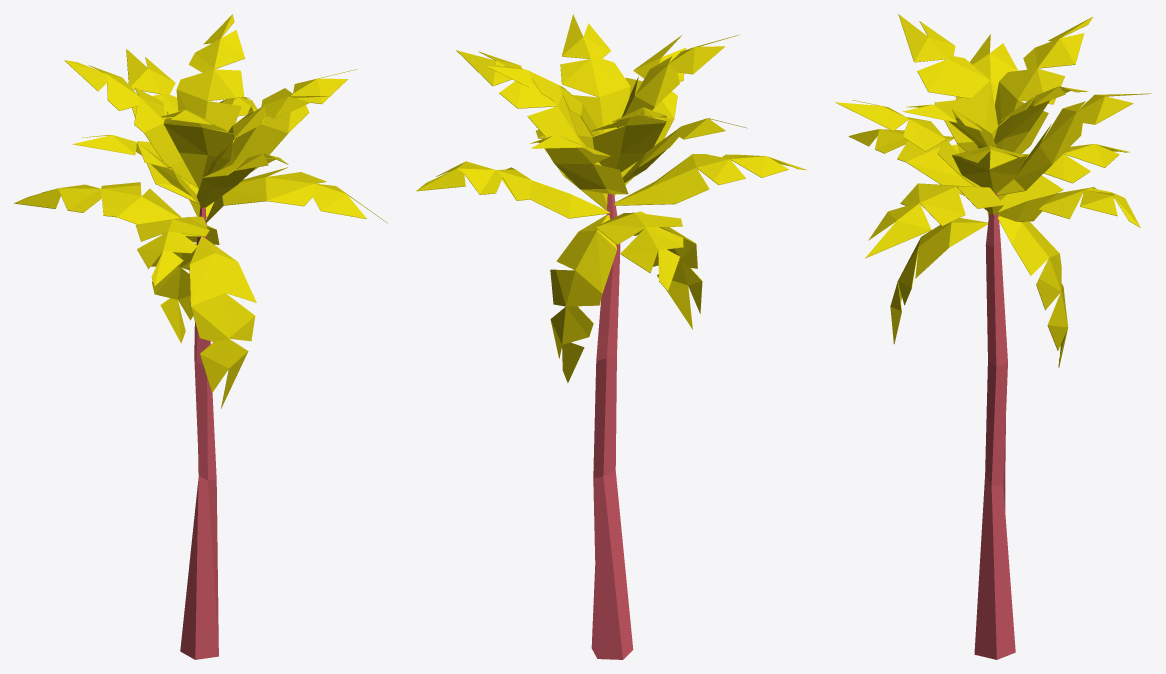
The model's file is tree-palm-high.fbx.
The picture shows the model from 3 angles, left to right: view 1: azimuth 30°, elevation 25°; view 2: azimuth 150°, elevation 25°; view 3: azimuth 270°, elevation 25°; orthographic projection. The views are drawn at different scales.
Parts seen in each view (by area): view 1: tree-palm-high; view 2: tree-palm-high; view 3: tree-palm-high.
Boxes of the visible parts, bbox=[...] form: tree-palm-high: bbox=[14, 14, 387, 659]; tree-palm-high: bbox=[416, 14, 806, 659]; tree-palm-high: bbox=[835, 14, 1151, 659].
Size of the model in its own units: 6.41 by 12.61 by 6.05.
